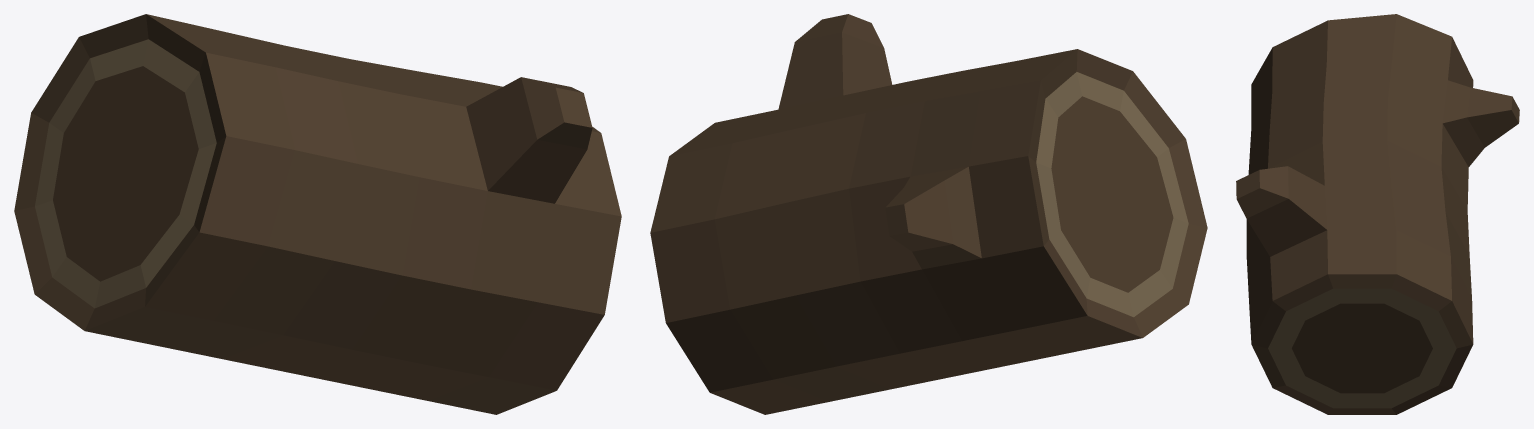
File: CWood.fbx
3 views of the same model, side by side, from view 1: azimuth 30°, elevation 25°; view 2: azimuth 150°, elevation 25°; view 3: azimuth 270°, elevation 25° (orthographic). The views are drawn at different scales.
Parts seen in each view (by area): view 1: odun2.002; view 2: odun2.002; view 3: odun2.002.
Part boxes in pixels (x1,y1,x2,y2): odun2.002: [14, 14, 621, 414]; odun2.002: [650, 14, 1207, 414]; odun2.002: [1236, 14, 1519, 414].
Size of the model in its own units: 356 by 288 by 247.
